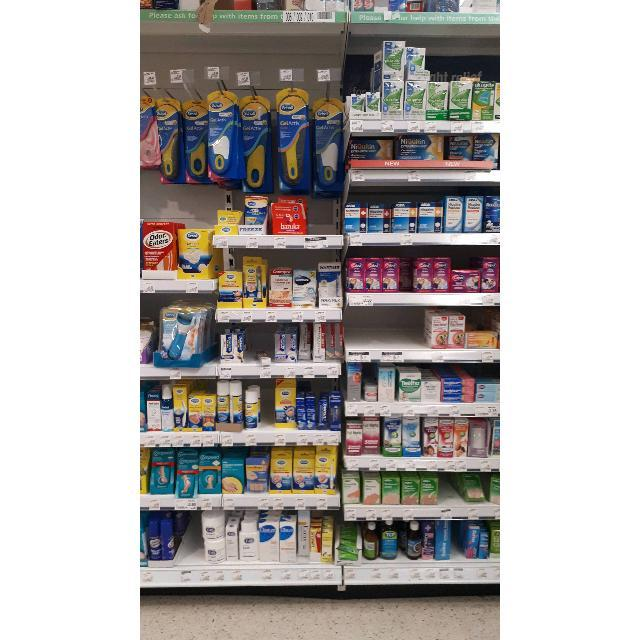empty: (344, 306, 424, 349), (308, 198, 340, 236), (184, 511, 202, 565), (260, 378, 276, 430), (439, 472, 461, 506), (451, 520, 465, 560)
front: (399, 289, 413, 293)
